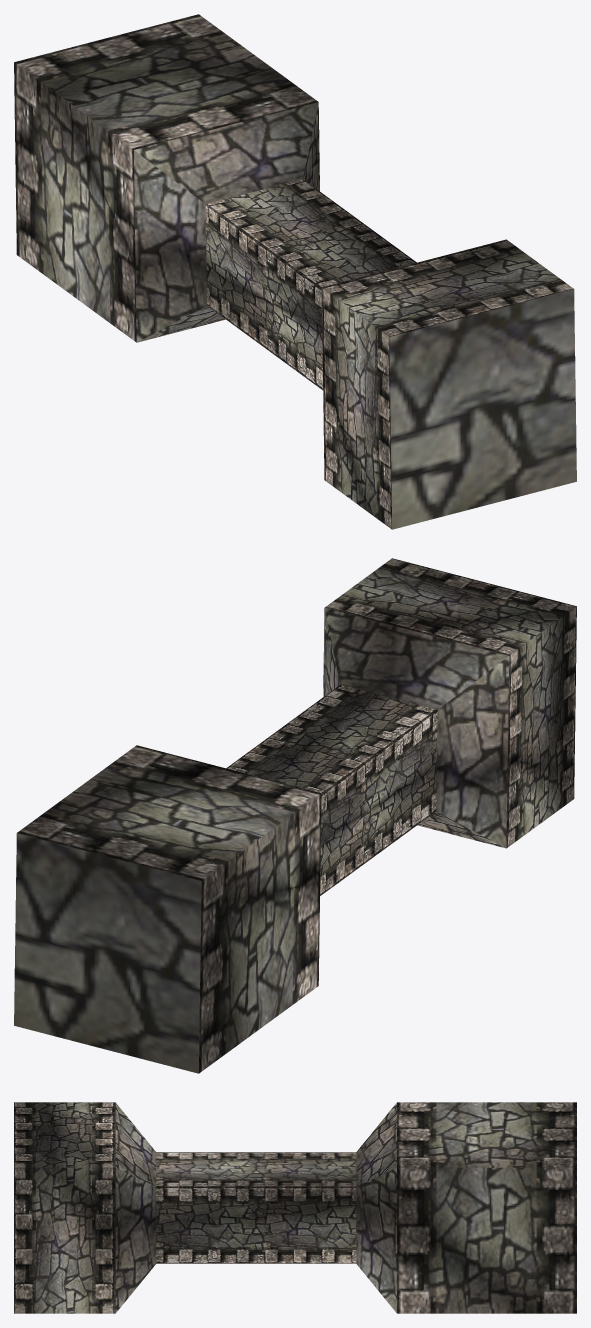
The model's file is column-B_02.obj.
The picture shows the model from 3 angles, top to bottom: view 1: azimuth 30°, elevation 25°; view 2: azimuth 150°, elevation 25°; view 3: azimuth 270°, elevation 25°; orthographic projection. The views are drawn at different scales.
Parts seen in each view (by area): view 1: (null); view 2: (null); view 3: (null).
Boxes of the visible parts, x1,y1,x2,y2 form: (null): (14, 14, 576, 529); (null): (14, 558, 576, 1073); (null): (14, 1102, 576, 1313).
Size of the model in its own units: 1.26 by 1.26 by 4.38.
